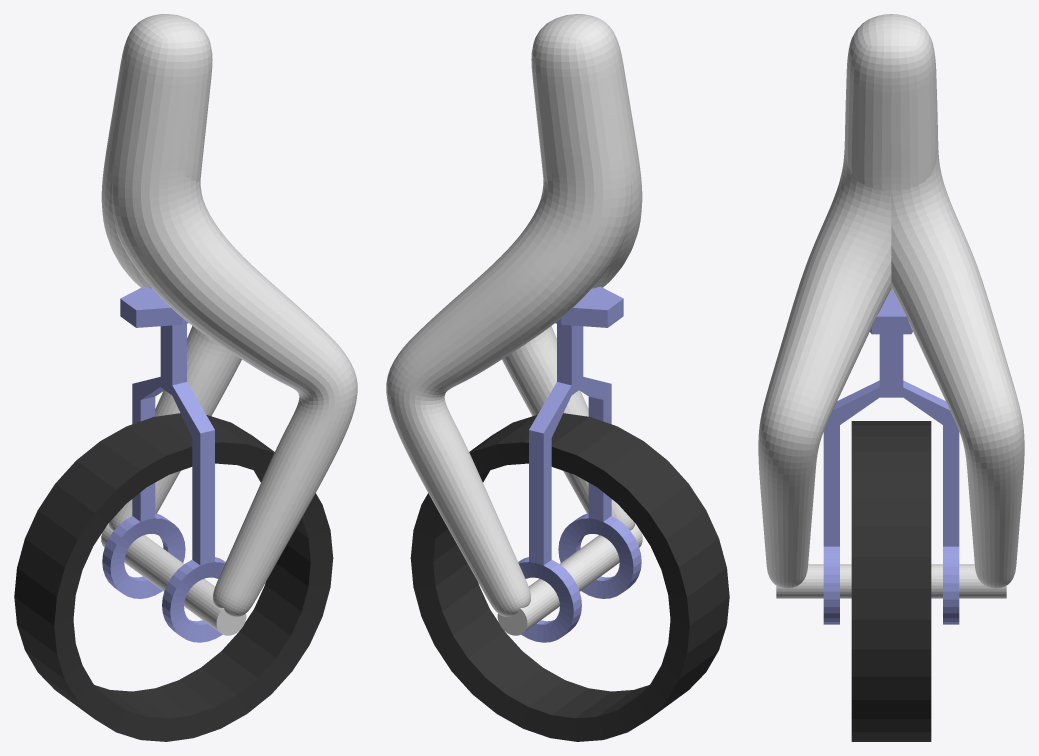
The model's file is unicycle.glb.
3 views of the same model, side by side, from view 1: azimuth 30°, elevation 25°; view 2: azimuth 150°, elevation 25°; view 3: azimuth 270°, elevation 25° (orthographic).
Visible parts, largest first — view 1: Plane.001, Circle.003, Circle.005, Circle.004; view 2: Plane.001, Circle.003, Circle.005, Circle.004; view 3: Plane.001, Circle.003, Circle.005, Circle.004.
Boxes of the visible parts, left/top/right/bottom form: Plane.001: left=101, top=14, right=357, bottom=616; Circle.003: left=14, top=413, right=333, bottom=741; Circle.005: left=102, top=286, right=225, bottom=642; Circle.004: left=101, top=524, right=246, bottom=635; Plane.001: left=386, top=14, right=642, bottom=616; Circle.003: left=410, top=413, right=729, bottom=741; Circle.005: left=518, top=286, right=641, bottom=642; Circle.004: left=497, top=524, right=642, bottom=635; Plane.001: left=758, top=14, right=1024, bottom=588; Circle.003: left=851, top=421, right=931, bottom=741; Circle.005: left=823, top=289, right=959, bottom=624; Circle.004: left=776, top=564, right=1006, bottom=598.
Bounding box in the file's own units: 2.35 × 5.69 × 1.95.
